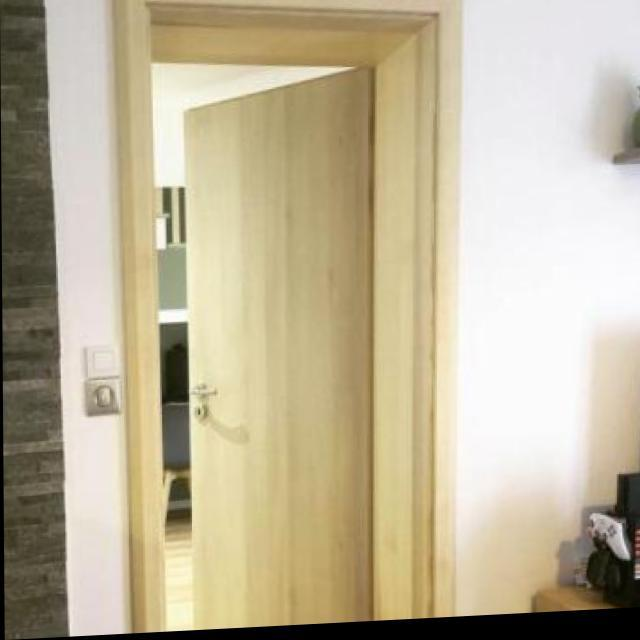door_handle: (188, 381, 230, 407)
